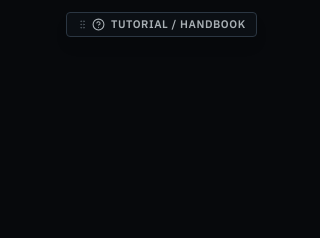
Scenario: Mission Operations UI Stability & Draggable Tutorial HUD › Workstream B: Draggable Tutorial HUD Button › 2. distinguishes click from drag: click (< 5px) toggles tutorial menu
The width and height of the screenshot is (320, 238).
Step 1. Press the mouse on the element with test id "tutorial-hud-container" → point(161, 24), box x1=66 y1=12 x2=257 y2=37
Step 2. Click the button with aria-label "Tutorial and Handbook Menu" → point(161, 24), box x1=66 y1=12 x2=257 y2=37
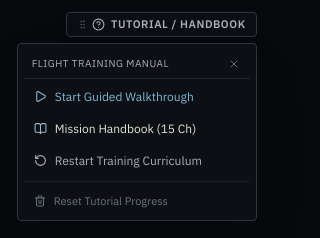
Now the menu named "Tutorial Options" is shown, box x1=17 y1=43 x2=257 y2=221
Now the text "FLIGHT TRAINING MANUAL" is shown, box x1=32 y1=57 x2=169 y2=70
Now the text "Mission Handbook (15 Ch)" is shown, box x1=55 y1=121 x2=196 y2=137
